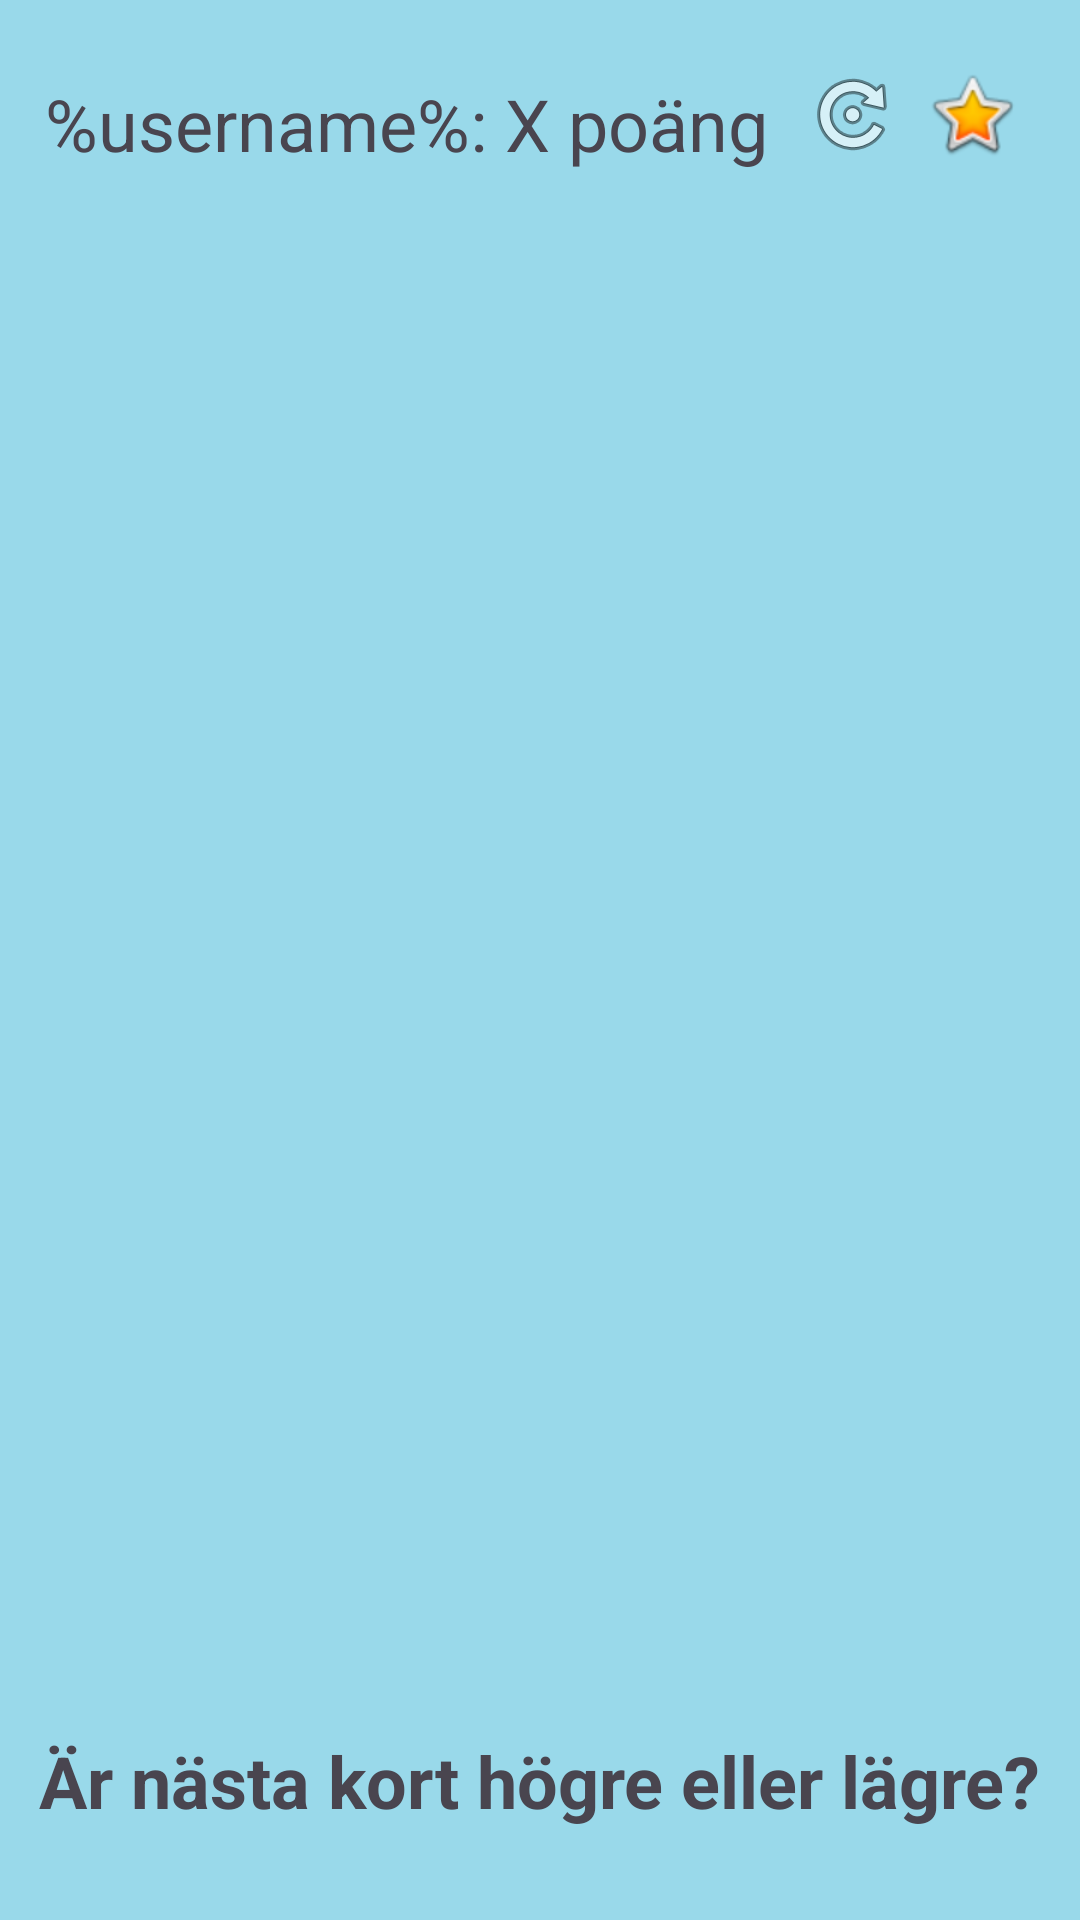

Where icons sit on this 1080×1920 app screen, as (x1, y1, x2, y2):
Button to restart the game: (817, 79, 887, 150)
Button to view highscores: (933, 76, 1013, 154)
